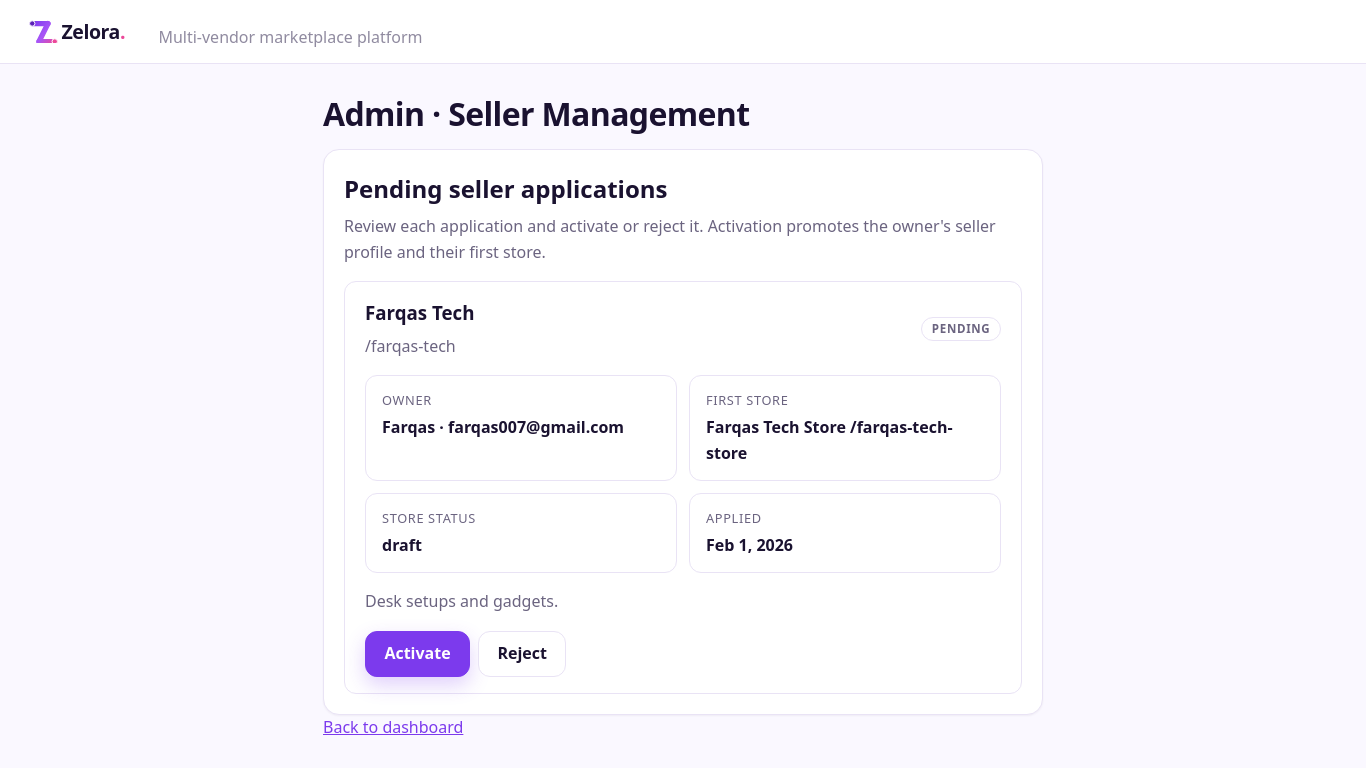
Test case: AdminSellersPage › activating a seller › drops the activated seller from the queue once the server re-reads
The image size is (1366, 768).
Click the button with aria-label "Activate Farqas Tech". click: (418, 654)
box: [365,631,470,677]
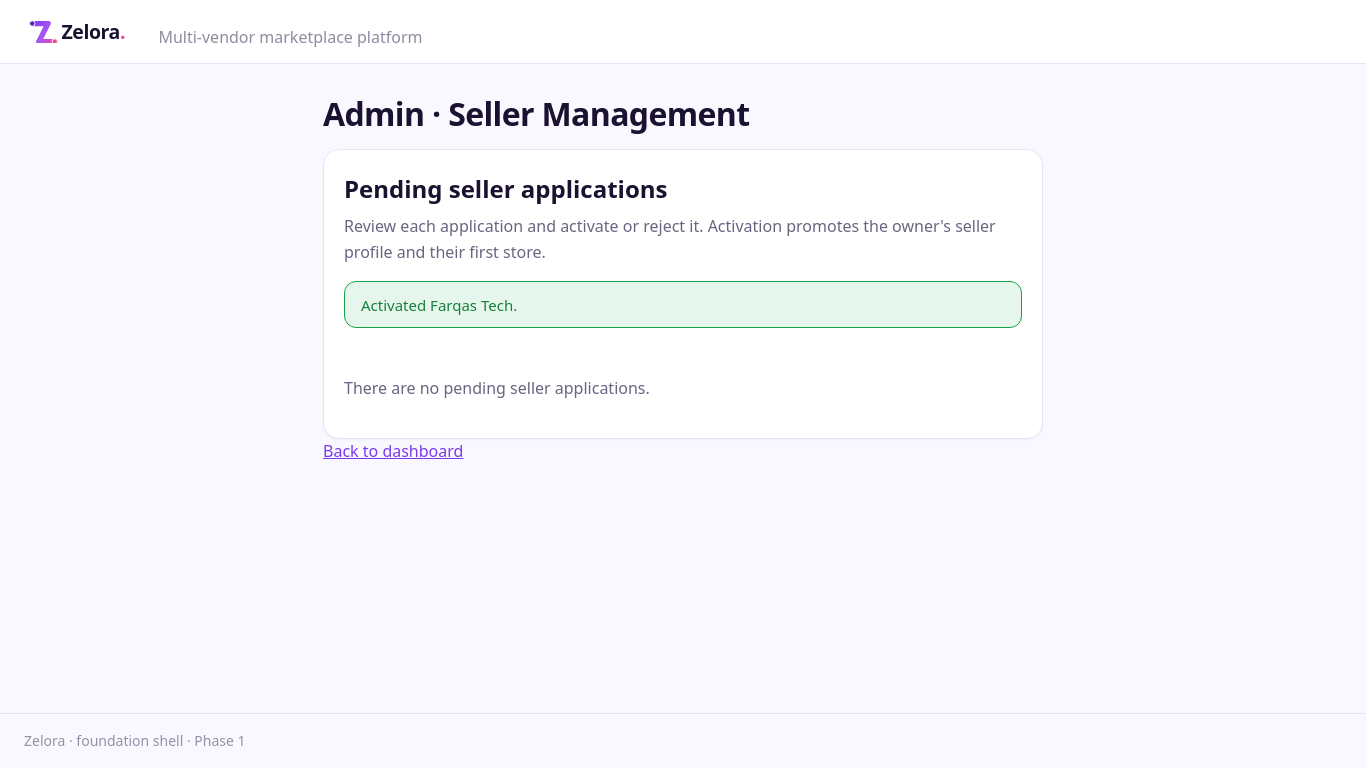
Expected: the text "There are no pending seller applications." is shown, [344,377,650,399]
